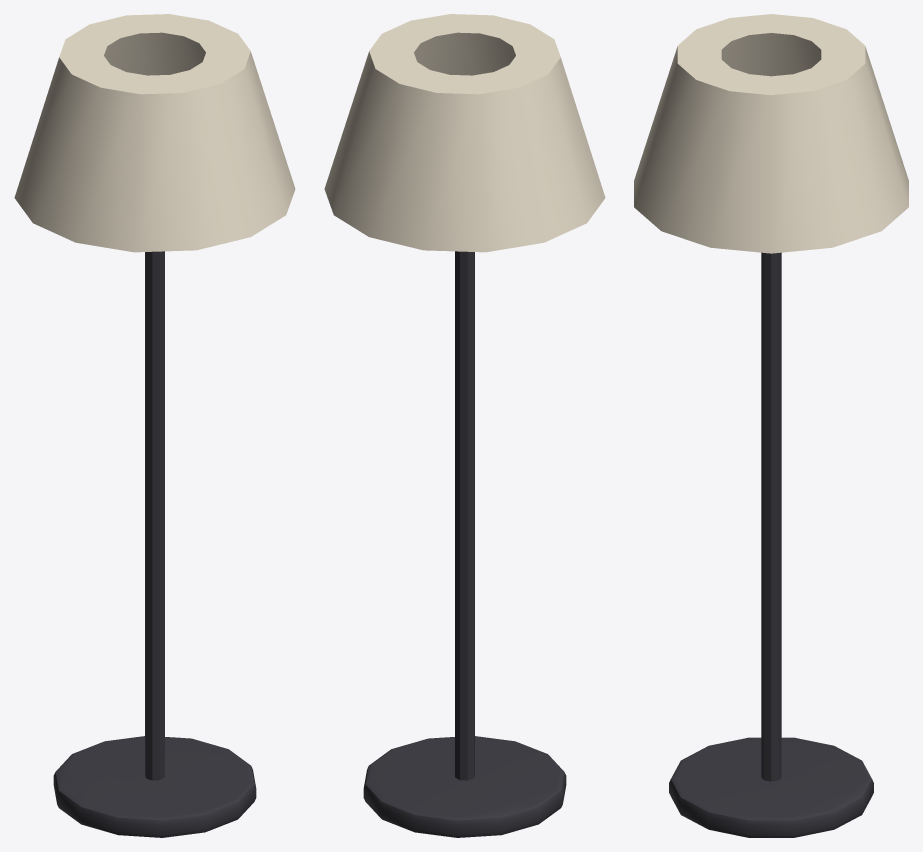
The model's file is FloorLamp.fbx.
3 renders of one model, left to right at view 1: azimuth 30°, elevation 25°; view 2: azimuth 150°, elevation 25°; view 3: azimuth 270°, elevation 25°, orthographic.
Parts seen in each view (by area): view 1: FloorLamp; view 2: FloorLamp; view 3: FloorLamp.
Boxes of the visible parts, left/top/right/bottom form: FloorLamp: left=14, top=14, right=295, bottom=837; FloorLamp: left=324, top=14, right=605, bottom=837; FloorLamp: left=634, top=14, right=908, bottom=837.
Bounding box in the file's own units: 2.2 × 6.4 × 2.14.
Materials: 1 (1 with a texture image).
